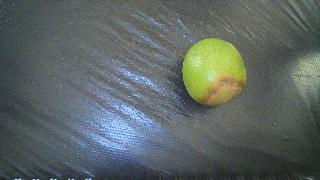DESECHO: (182, 39, 246, 106)
